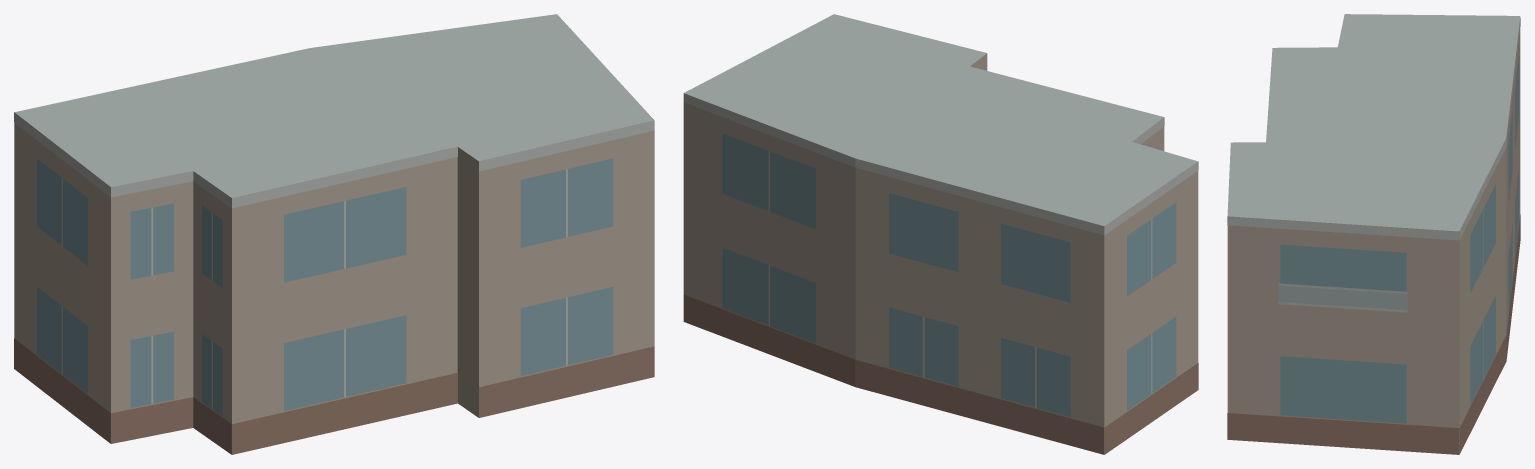
The model's file is survey-upis-32458390.glb.
The picture shows the model from 3 angles, left to right: view 1: azimuth 30°, elevation 25°; view 2: azimuth 150°, elevation 25°; view 3: azimuth 270°, elevation 25°; orthographic projection. The views are drawn at different scales.
Parts seen in each view (by area): view 1: survey-upis-32458390.tmp; view 2: survey-upis-32458390.tmp; view 3: survey-upis-32458390.tmp.
Boxes of the visible parts, left/top/right/bottom form: survey-upis-32458390.tmp: left=14, top=14, right=654, bottom=454; survey-upis-32458390.tmp: left=683, top=14, right=1198, bottom=454; survey-upis-32458390.tmp: left=1227, top=14, right=1520, bottom=454.
Bounding box in the file's own units: 12.75 × 6.1 × 7.26.
